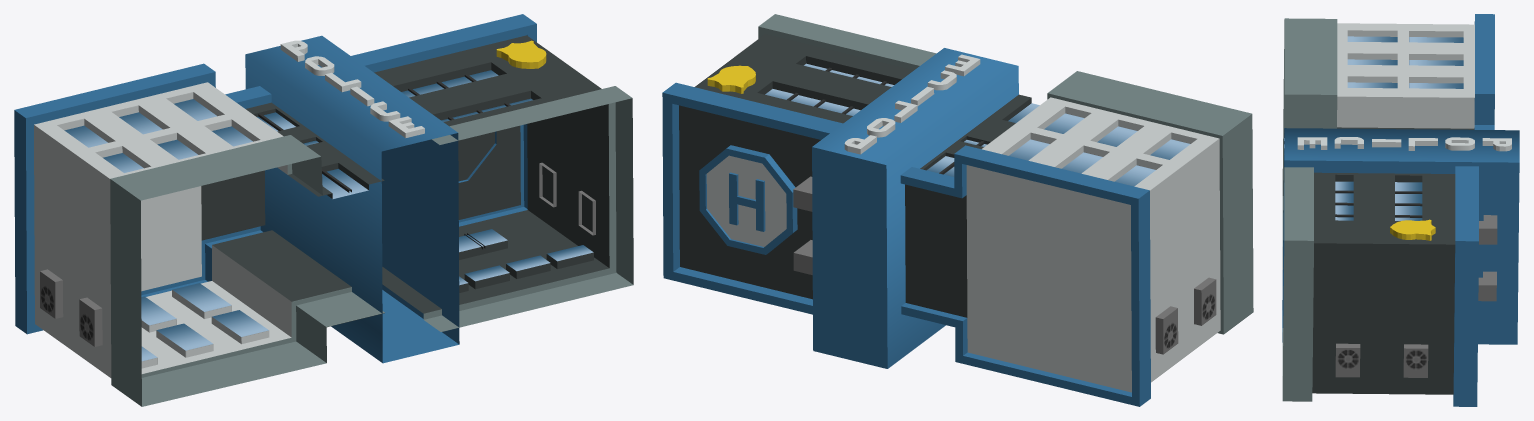
File: city_police_station.glb
3 renders of one model, left to right at view 1: azimuth 30°, elevation 25°; view 2: azimuth 150°, elevation 25°; view 3: azimuth 270°, elevation 25°, orthographic. The views are drawn at different scales.
Parts seen in each view (by area): view 1: City_Police_Station; view 2: City_Police_Station; view 3: City_Police_Station.
Boxes of the visible parts, left/top/right/bottom form: City_Police_Station: left=14, top=14, right=633, bottom=406; City_Police_Station: left=662, top=14, right=1253, bottom=406; City_Police_Station: left=1282, top=14, right=1519, bottom=406.
Bounding box in the file's own units: 21.89 × 9.46 × 10.43.
1 material, 1 textured.
